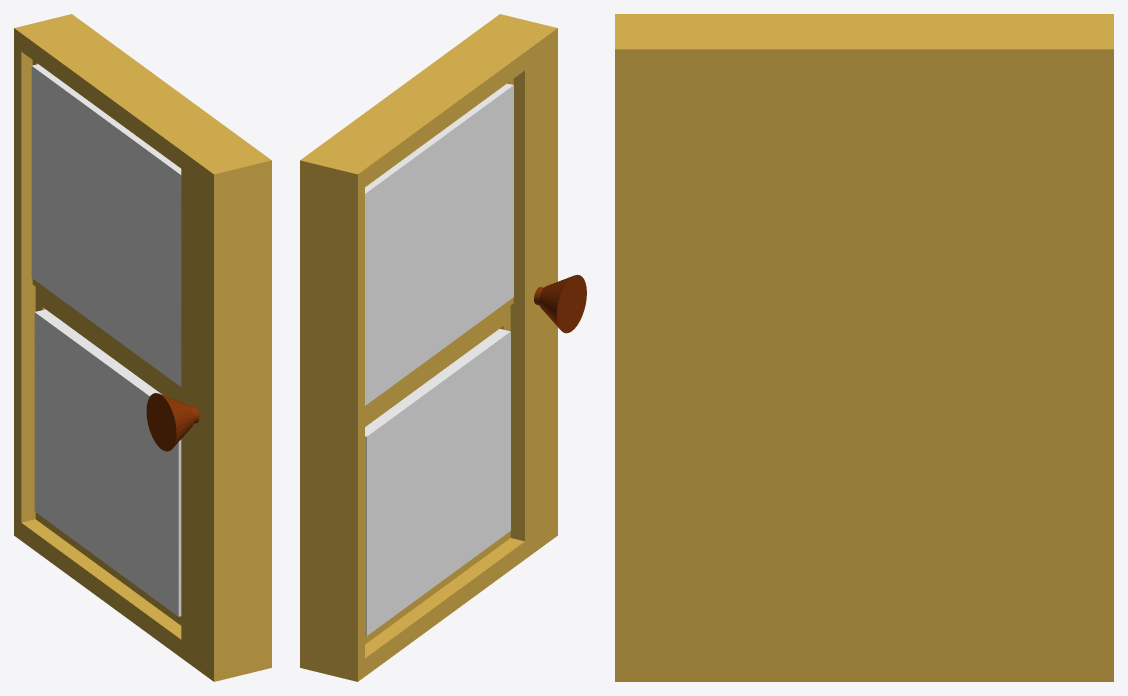
Rendered from door.fbx.
3 views of the same model, side by side, from view 1: azimuth 30°, elevation 25°; view 2: azimuth 150°, elevation 25°; view 3: azimuth 270°, elevation 25° (orthographic). The views are drawn at different scales.
Parts seen in each view (by area): view 1: 柱体; view 2: 柱体; view 3: 柱体.
Boxes of the visible parts, x1,y1,x2,y2 form: 柱体: [14, 14, 271, 681]; 柱体: [300, 14, 586, 681]; 柱体: [615, 14, 1113, 681].
Size of the model in its own units: 105 by 560 by 400.
